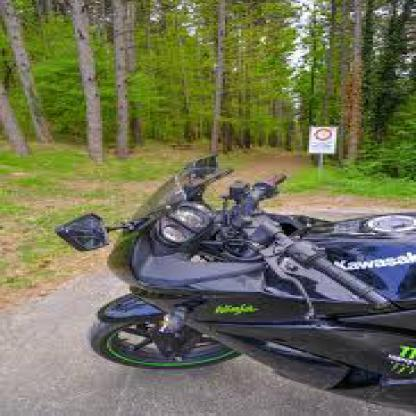Motorcycle: (55, 138, 414, 413)
